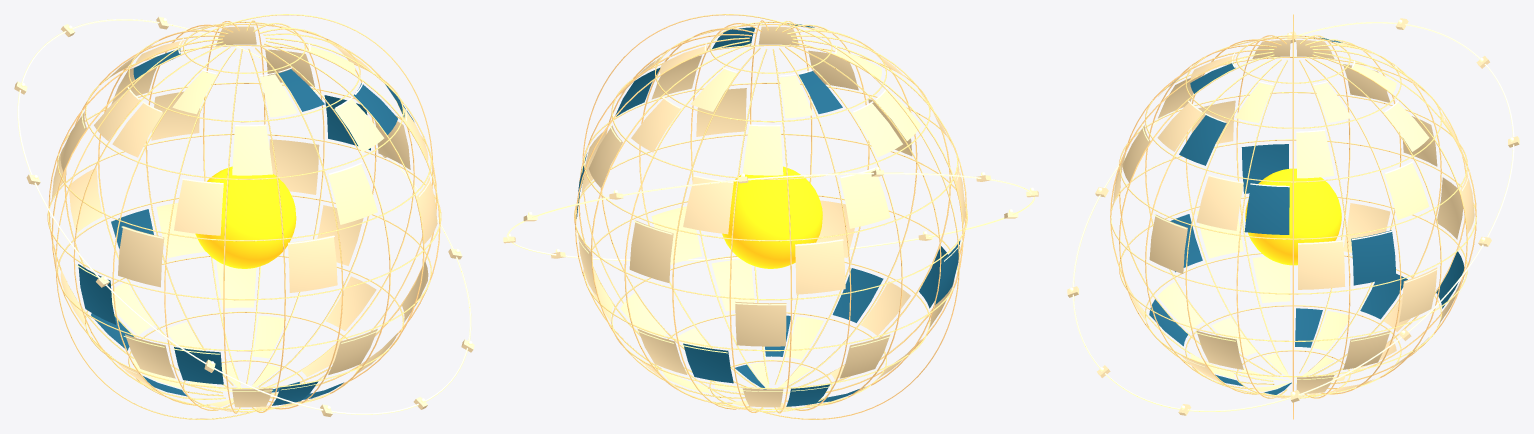
The model's file is planet-hub.glb.
3 renders of one model, left to right at view 1: azimuth 30°, elevation 25°; view 2: azimuth 150°, elevation 25°; view 3: azimuth 270°, elevation 25°, orthographic. The views are drawn at different scales.
Parts seen in each view (by area): view 1: dyson-collector-panels, dyson-structural-lattice, dyson-blue-collector-panels, amber-reactor-core, fine-orbital-track, polar-skeletal-orbit, dyson-panel-light-seams, orbital-relay-modules; view 2: dyson-collector-panels, dyson-structural-lattice, dyson-blue-collector-panels, amber-reactor-core, polar-skeletal-orbit, fine-orbital-track, dyson-panel-light-seams, orbital-relay-modules; view 3: dyson-collector-panels, dyson-structural-lattice, dyson-blue-collector-panels, amber-reactor-core, fine-orbital-track, dyson-panel-light-seams, orbital-relay-modules.
Boxes of the visible parts, left/top/right/bottom form: dyson-collector-panels: left=51, top=23, right=437, bottom=411; dyson-structural-lattice: left=47, top=20, right=441, bottom=413; dyson-blue-collector-panels: left=78, top=48, right=413, bottom=405; amber-reactor-core: left=195, top=166, right=296, bottom=268; fine-orbital-track: left=17, top=19, right=471, bottom=414; polar-skeletal-orbit: left=55, top=14, right=433, bottom=419; dyson-panel-light-seams: left=76, top=21, right=431, bottom=410; orbital-relay-modules: left=14, top=17, right=474, bottom=416; dyson-collector-panels: left=578, top=26, right=965, bottom=410; dyson-structural-lattice: left=574, top=20, right=967, bottom=413; dyson-blue-collector-panels: left=576, top=24, right=960, bottom=406; amber-reactor-core: left=722, top=166, right=822, bottom=268; polar-skeletal-orbit: left=582, top=14, right=959, bottom=419; fine-orbital-track: left=507, top=172, right=1034, bottom=260; dyson-panel-light-seams: left=575, top=21, right=962, bottom=409; orbital-relay-modules: left=503, top=170, right=1038, bottom=258; dyson-collector-panels: left=1112, top=37, right=1474, bottom=397; dyson-structural-lattice: left=1110, top=34, right=1476, bottom=398; dyson-blue-collector-panels: left=1149, top=37, right=1464, bottom=394; amber-reactor-core: left=1245, top=168, right=1341, bottom=265; fine-orbital-track: left=1072, top=22, right=1514, bottom=411; dyson-panel-light-seams: left=1117, top=36, right=1469, bottom=397; orbital-relay-modules: left=1067, top=18, right=1519, bottom=415.
Bounding box in the file's own units: 2.61 × 2.27 × 2.52.
